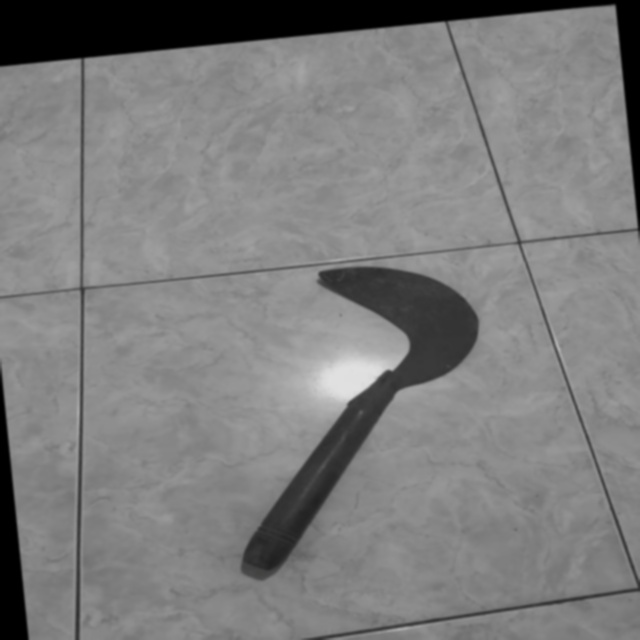Sharp-Object: (207, 242, 522, 589)
